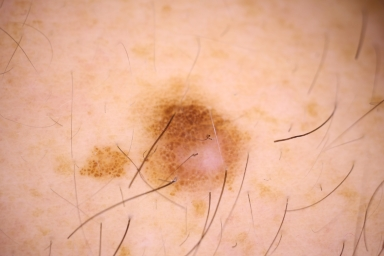melanoma: (140, 102, 248, 190), (78, 142, 129, 180)
